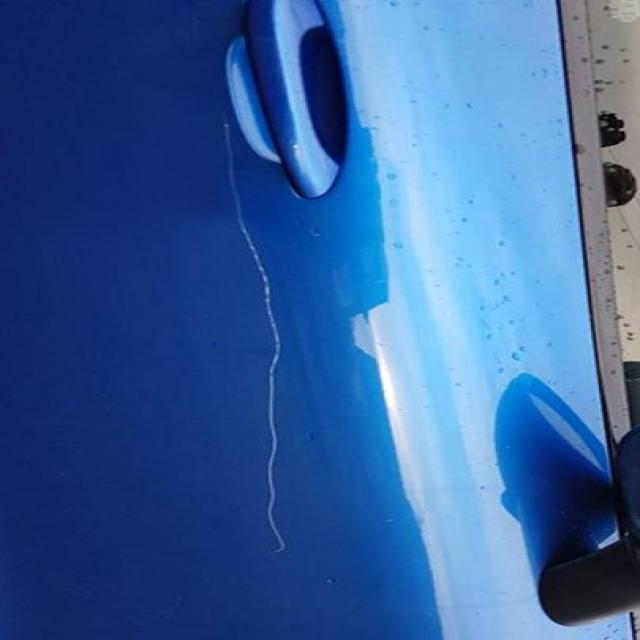scratch: (207, 107, 345, 565)
